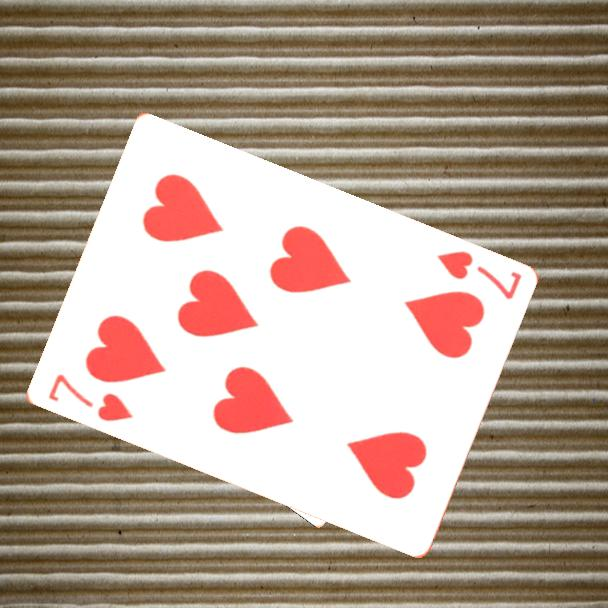h07: (432, 247, 524, 303), (44, 370, 136, 425)
